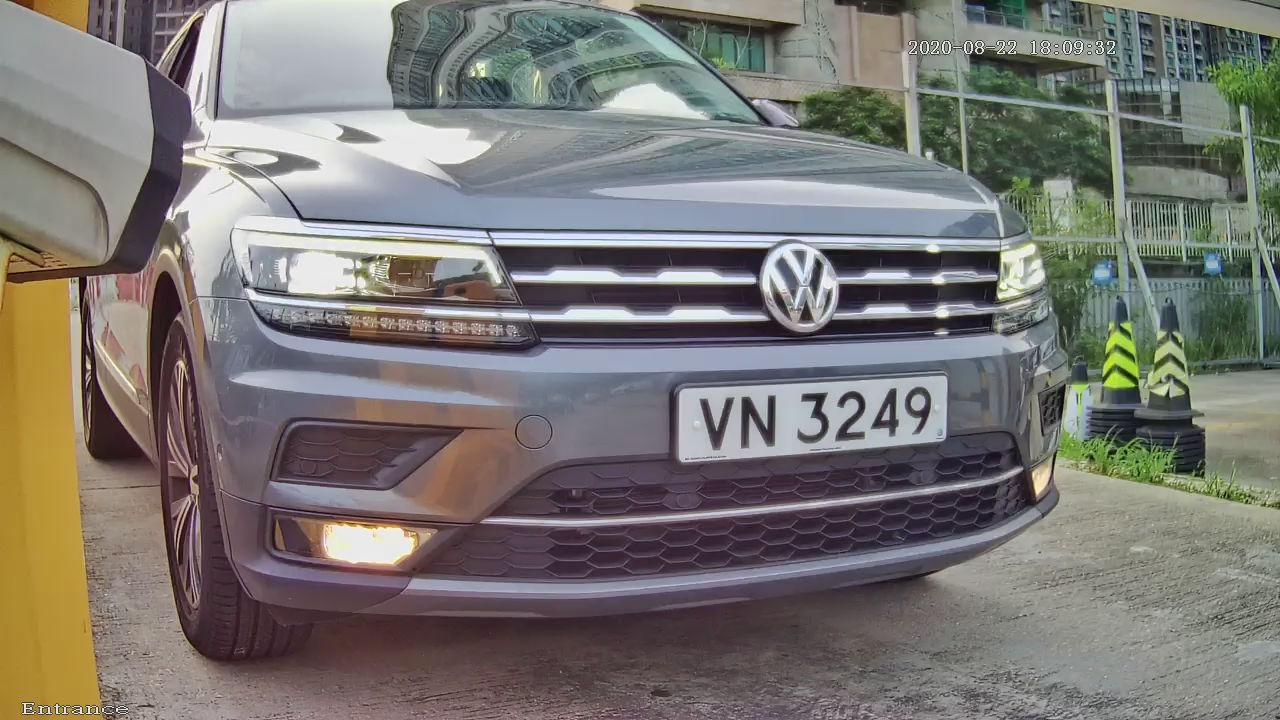Car: (12, 1, 1161, 676)
License Plate: (663, 364, 955, 476)
